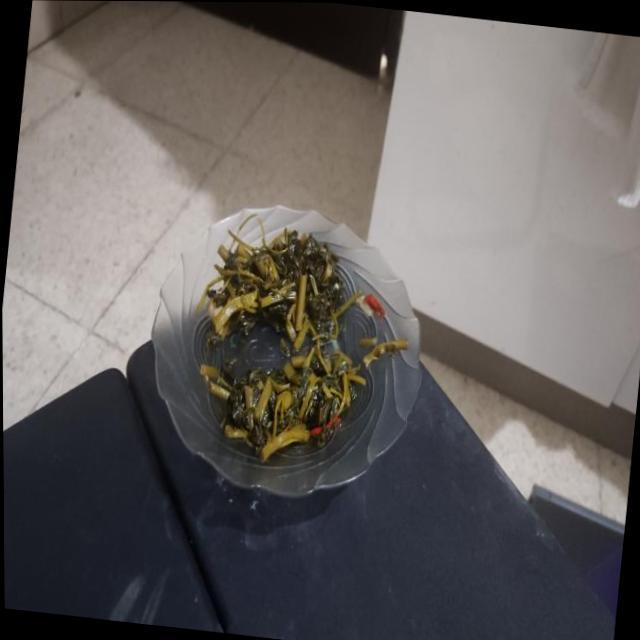tumis_kangkung: (200, 337, 395, 462), (197, 214, 360, 352)
